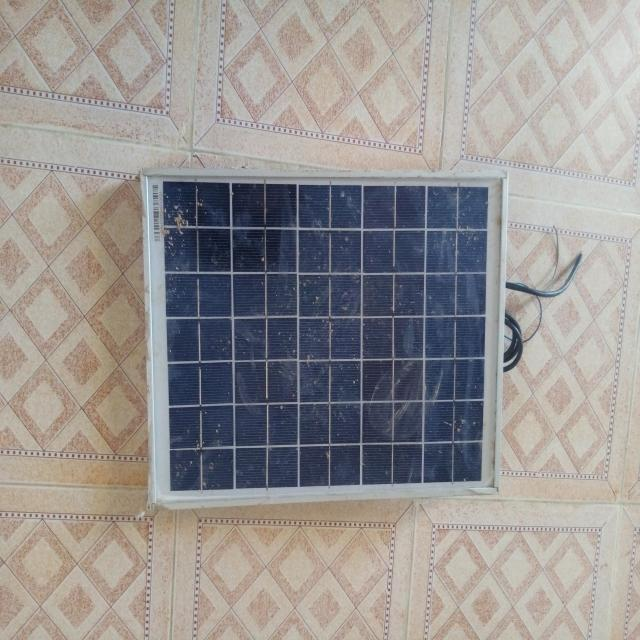faulty: (143, 174, 508, 511)
